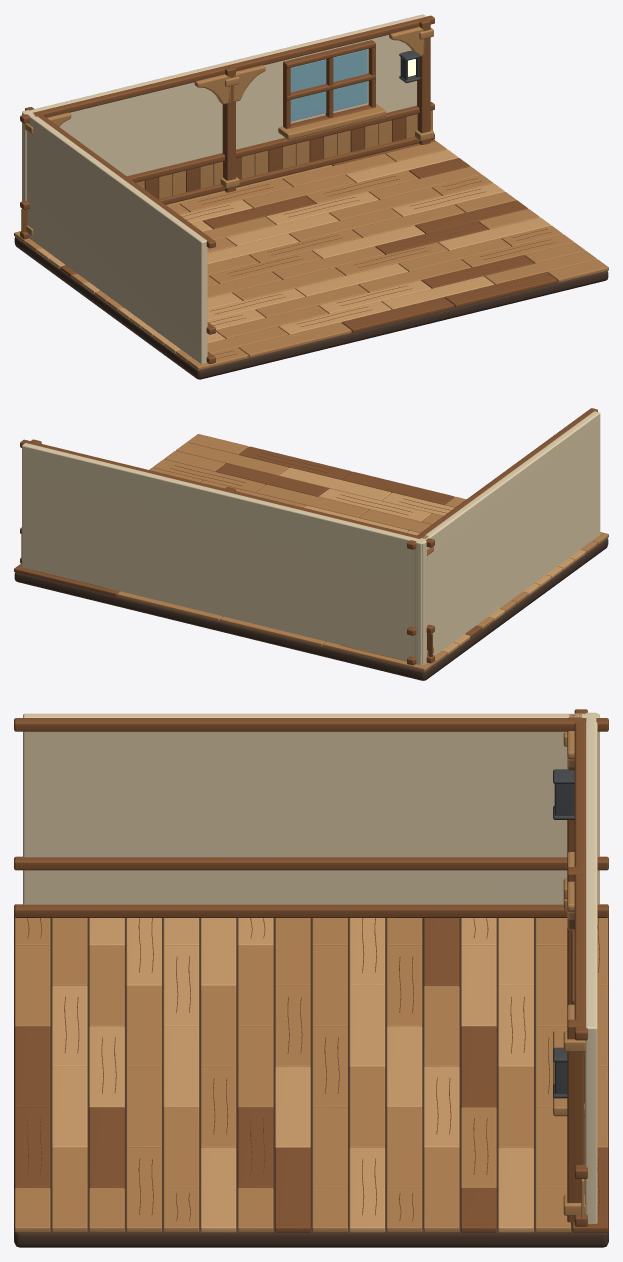
The model's file is cafe_shell.glb.
The picture shows the model from 3 angles, top to bottom: view 1: azimuth 30°, elevation 25°; view 2: azimuth 150°, elevation 25°; view 3: azimuth 270°, elevation 25°; orthographic projection. The views are drawn at different scales.
Visible parts, largest first — view 1: left plaster wall, back plaster wall, foundation, back timber molding.002, window night glass, back timber molding.001, back timber molding, individual oak floorboard.069, individual oak floorboard.070, individual oak floorboard.068, back sculpted timber column.002, back sculpted timber column.001 (+57 smaller); view 2: back plaster wall, left plaster wall, foundation, back timber molding.002, individual oak floorboard.057, individual oak floorboard.060, individual oak floorboard.061, individual oak floorboard.056, individual oak floorboard.066, individual oak floorboard.070, individual oak floorboard.065, individual oak floorboard.069 (+10 smaller); view 3: left plaster wall, foundation, left timber molding.002, left timber molding.001, left timber molding, back plaster wall, back timber molding.002, individual oak floorboard.048, individual oak floorboard.021, individual oak floorboard.030, individual oak floorboard.012, individual oak floorboard.039 (+68 smaller).
Boxes of the visible parts, x1,y1,x2,y2 form: left plaster wall: (22, 110, 207, 363); back plaster wall: (22, 14, 426, 201); foundation: (14, 237, 608, 379); back timber molding.002: (20, 15, 434, 123); window night glass: (290, 49, 367, 121); back timber molding.001: (20, 102, 434, 209); back timber molding: (20, 133, 434, 239); individual oak floorboard.069: (341, 297, 454, 332); individual oak floorboard.070: (444, 272, 557, 307); individual oak floorboard.068: (239, 322, 351, 357); back sculpted timber column.002: (417, 18, 430, 144); back sculpted timber column.001: (222, 65, 235, 192); back plaster wall: (22, 443, 426, 664); left plaster wall: (415, 411, 600, 665); foundation: (14, 538, 608, 680); back timber molding.002: (20, 439, 434, 547); individual oak floorboard.057: (152, 459, 265, 492); individual oak floorboard.060: (318, 488, 431, 521); individual oak floorboard.061: (215, 463, 328, 496); individual oak floorboard.056: (255, 484, 368, 517); individual oak floorboard.066: (176, 442, 288, 475); individual oak floorboard.070: (239, 446, 351, 479); individual oak floorboard.065: (279, 467, 391, 500); individual oak floorboard.069: (342, 471, 454, 504); left plaster wall: (23, 713, 599, 904); foundation: (14, 916, 608, 1247); left timber molding.002: (14, 718, 608, 731); left timber molding.001: (14, 856, 608, 870); left timber molding: (14, 904, 608, 917); back plaster wall: (585, 712, 597, 1223); back timber molding.002: (574, 709, 587, 1040); individual oak floorboard.048: (200, 1147, 236, 1232); individual oak floorboard.021: (423, 1147, 459, 1232); individual oak floorboard.030: (349, 1147, 385, 1232); individual oak floorboard.012: (498, 1147, 533, 1232); individual oak floorboard.039: (275, 1147, 310, 1232).
Size of the model in its own units: 10.8 by 3.41 by 8.4.
